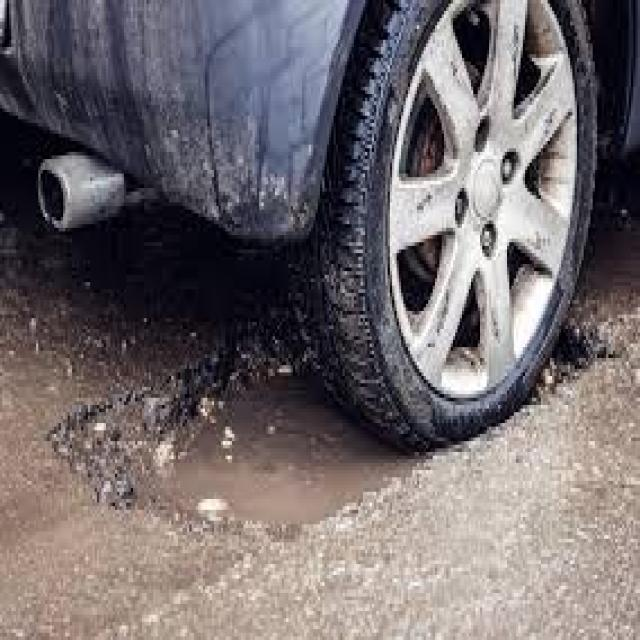Pothole: (135, 372, 430, 528)
